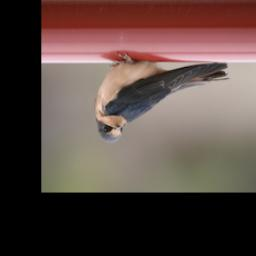Swallow: (94, 47, 231, 146)
